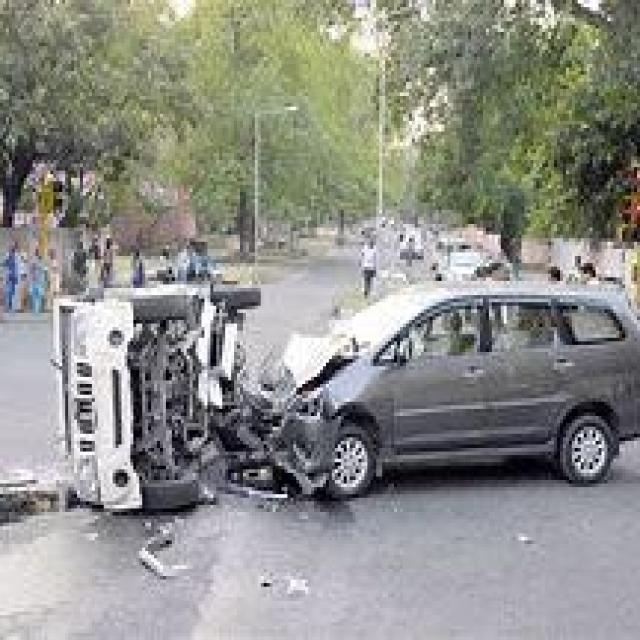Nguy hiểm: (0, 262, 640, 532)
